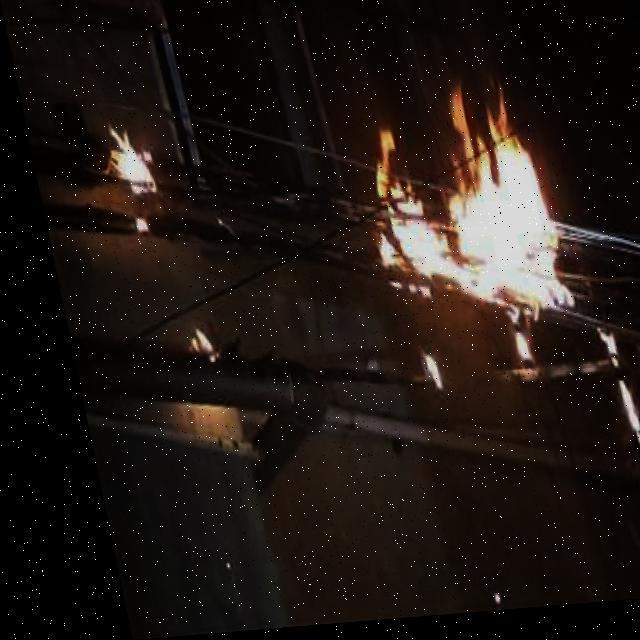Fire: (336, 100, 568, 363), (90, 116, 166, 242)
